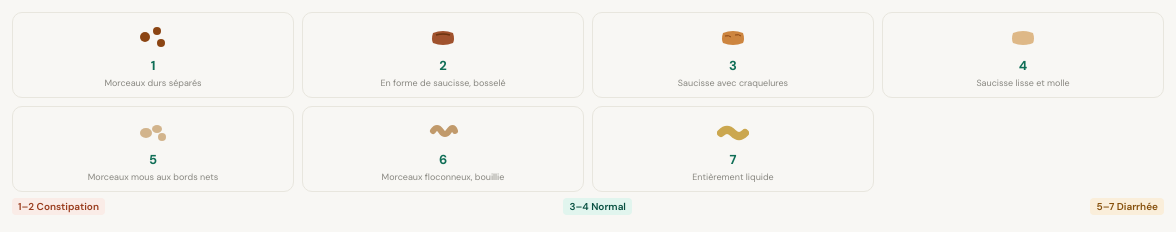
Scenario: BristolScaleComponent › toggle › referme la grille après sélection d'un type
Click the radio button with class "bristol-item" showing "4 Saucisse lisse et molle": coordinates (1023, 55) x1=882 y1=12 x2=1164 y2=98
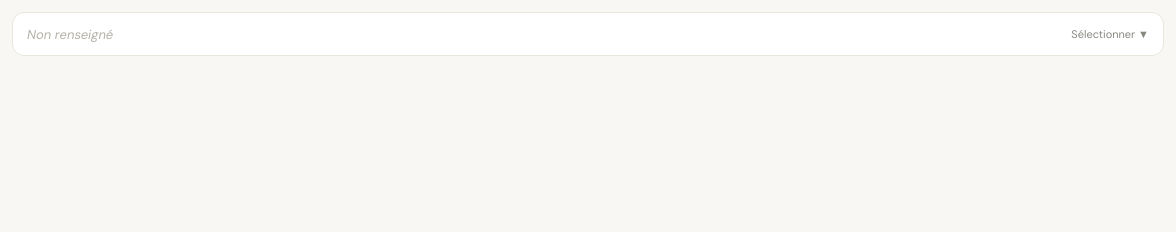
Expected: the button with test id "bristol-collapsed-btn" is shown, x1=12 y1=12 x2=1164 y2=56
